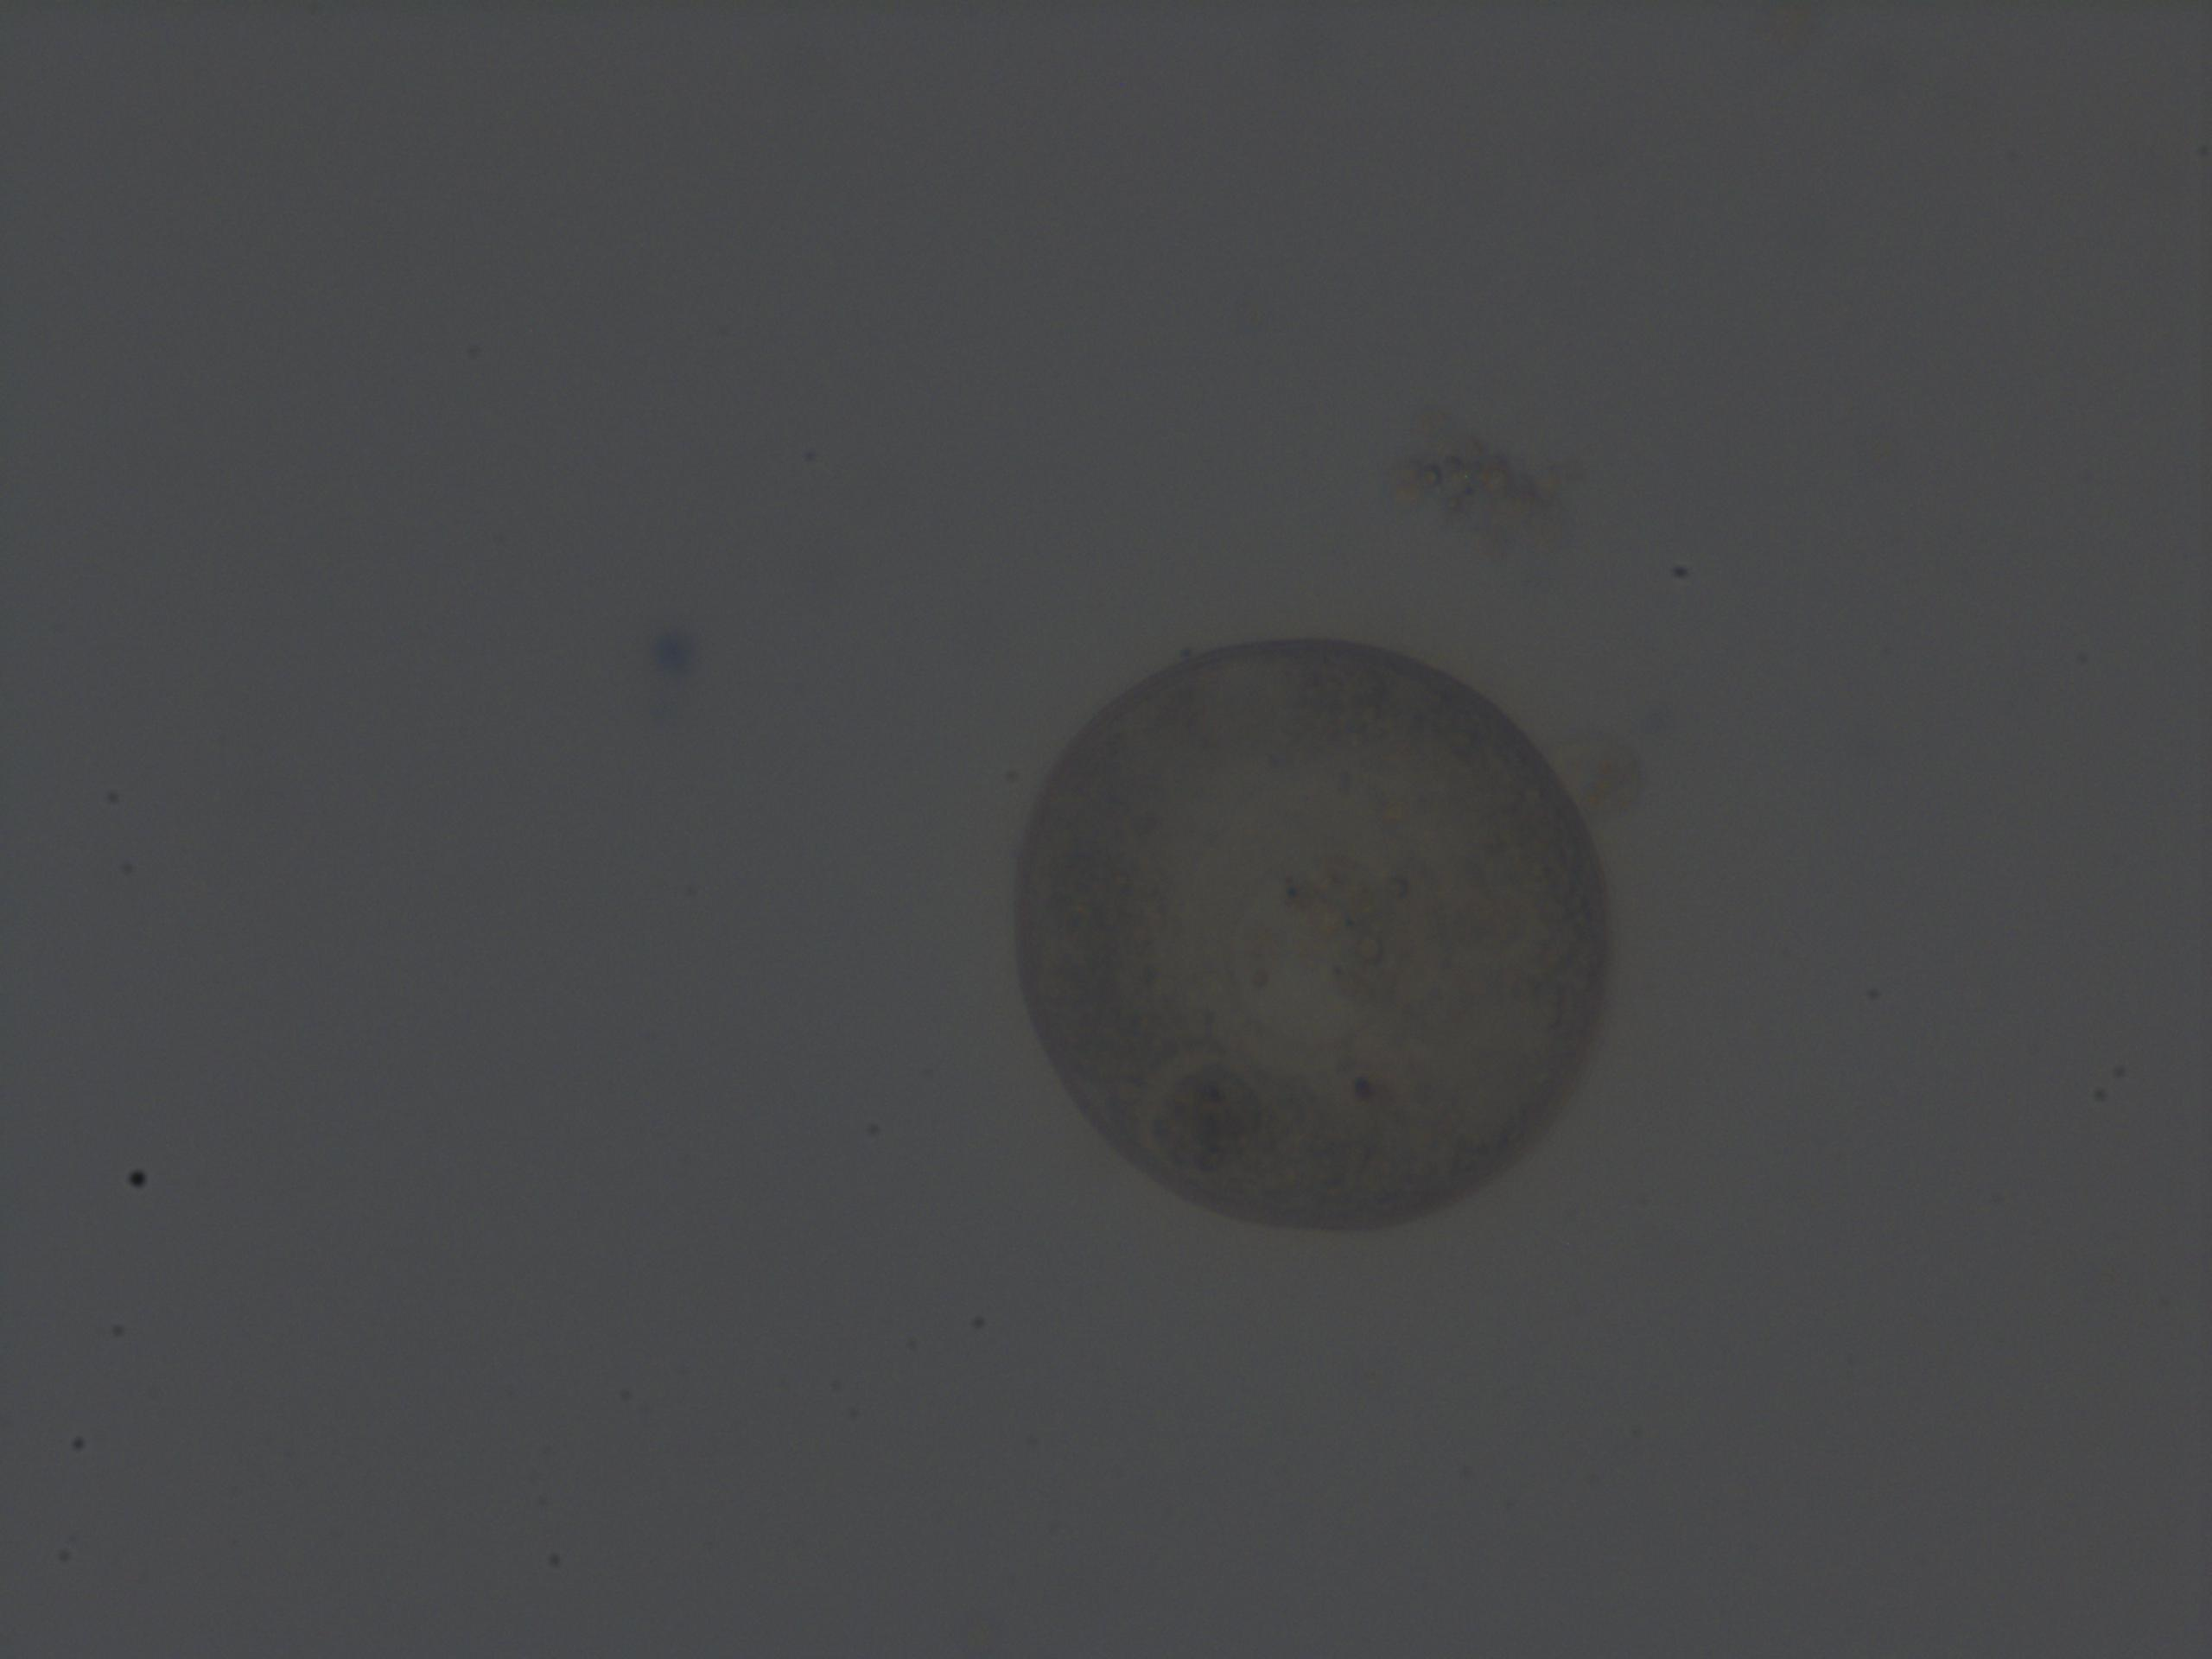protozoa: (1007, 627, 1627, 1239)
